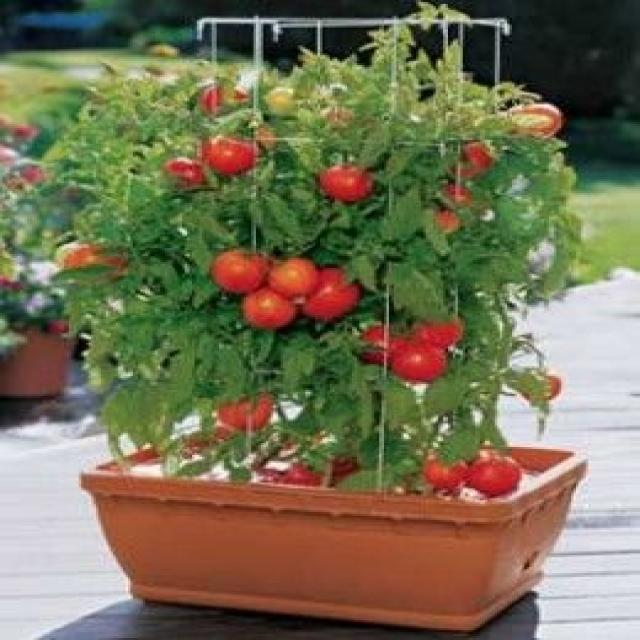level 2: (262, 88, 306, 120)
level 5: (59, 236, 129, 286)
level 6: (299, 268, 358, 318), (212, 250, 270, 294), (218, 384, 272, 428), (390, 343, 447, 381), (206, 134, 258, 175), (268, 258, 318, 299), (244, 287, 295, 327), (468, 458, 520, 496), (406, 315, 462, 350), (320, 165, 370, 202), (419, 456, 468, 493), (455, 142, 502, 180), (358, 328, 407, 363), (159, 153, 207, 185), (204, 86, 247, 119), (420, 208, 460, 240), (433, 184, 474, 212)
